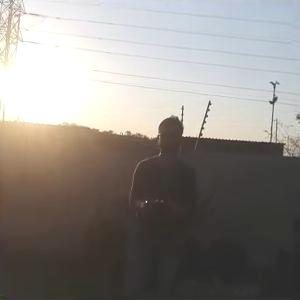follow: (120, 108, 196, 298)
